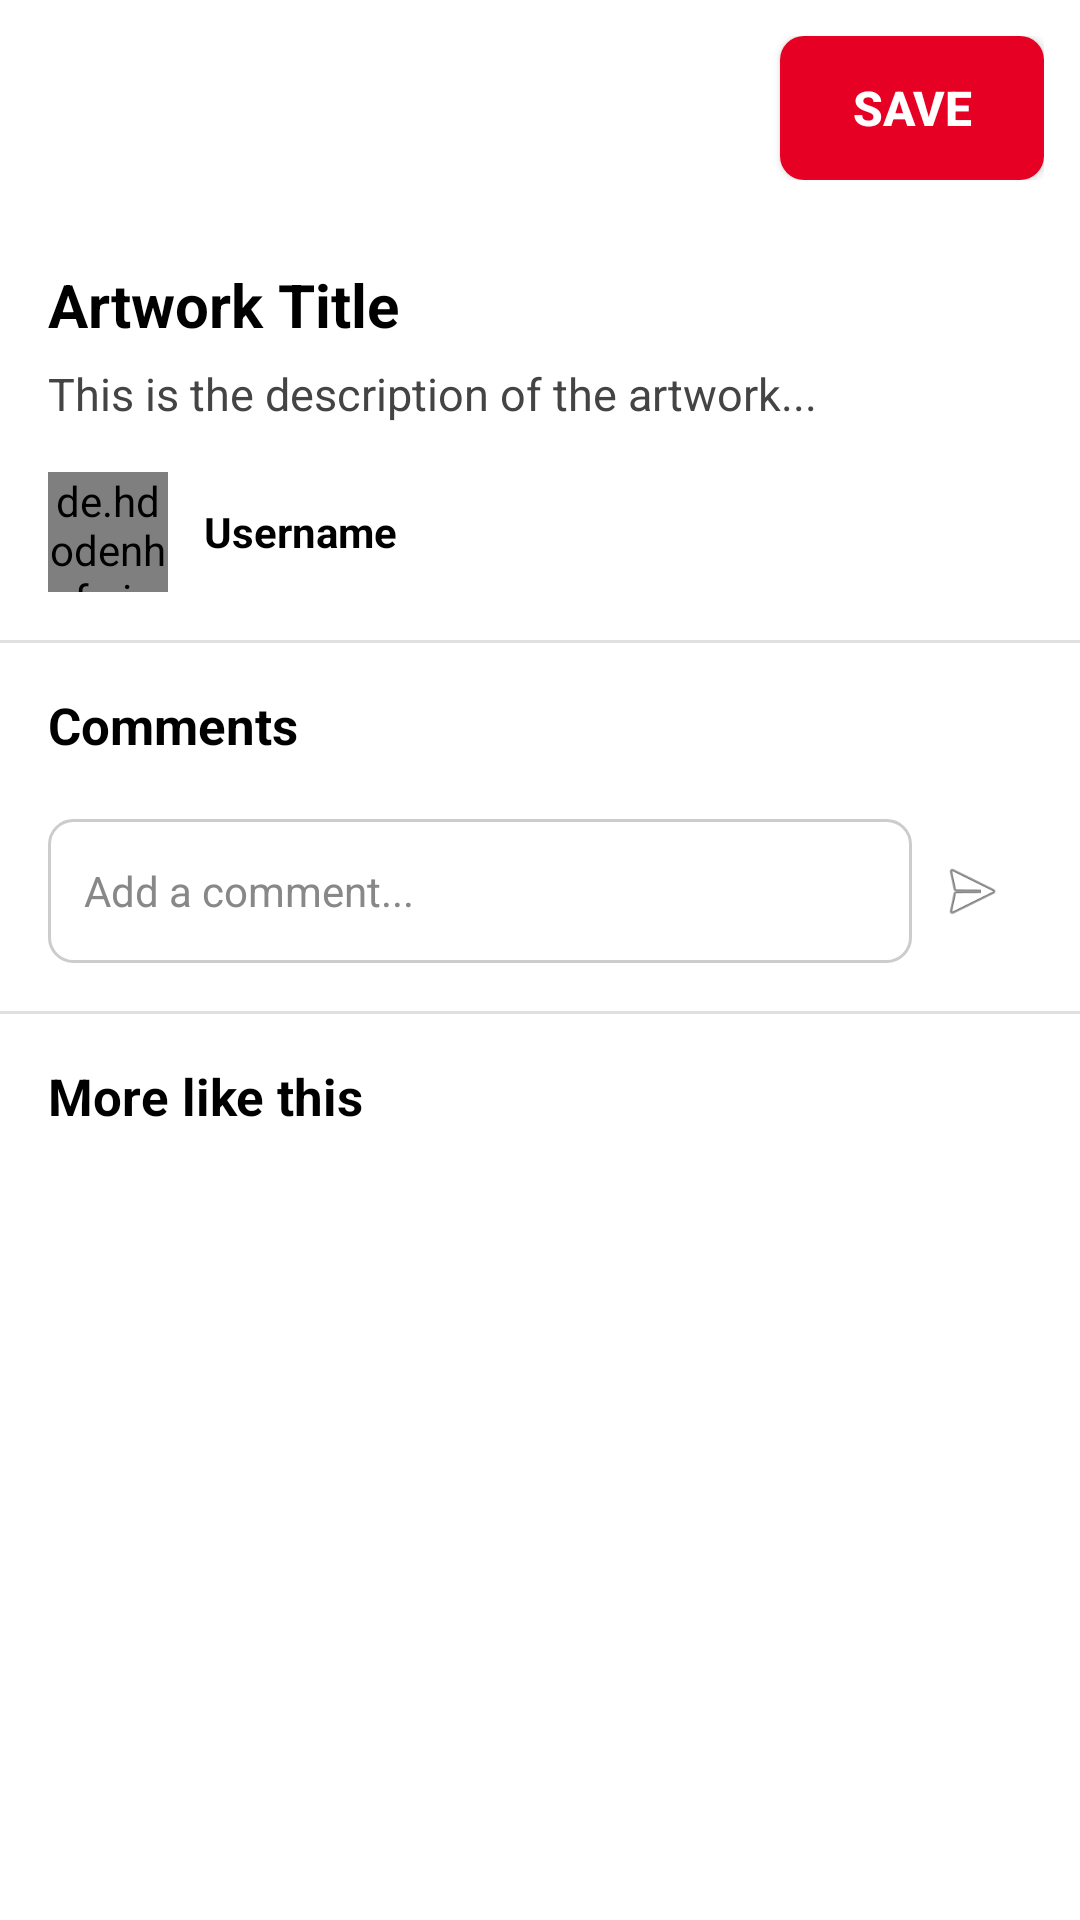

Named icons in this screenshot (1080w x 1920h) and their centers, (x,y):
Send: (972,891)
